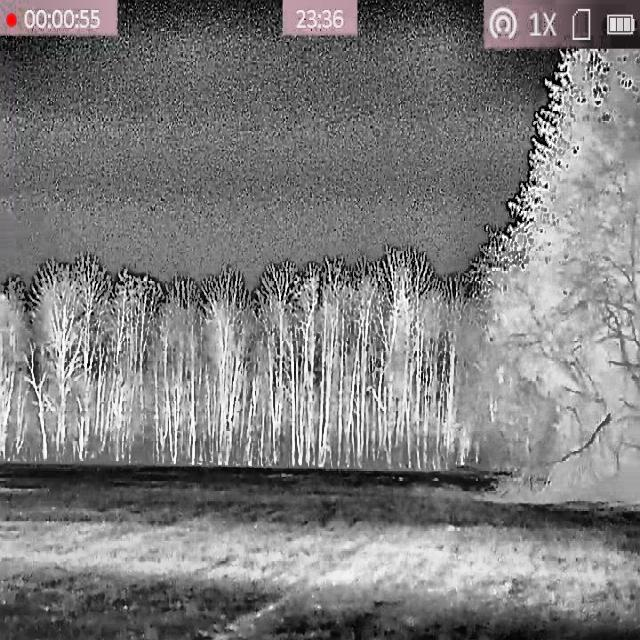drone: (415, 322, 419, 328)
